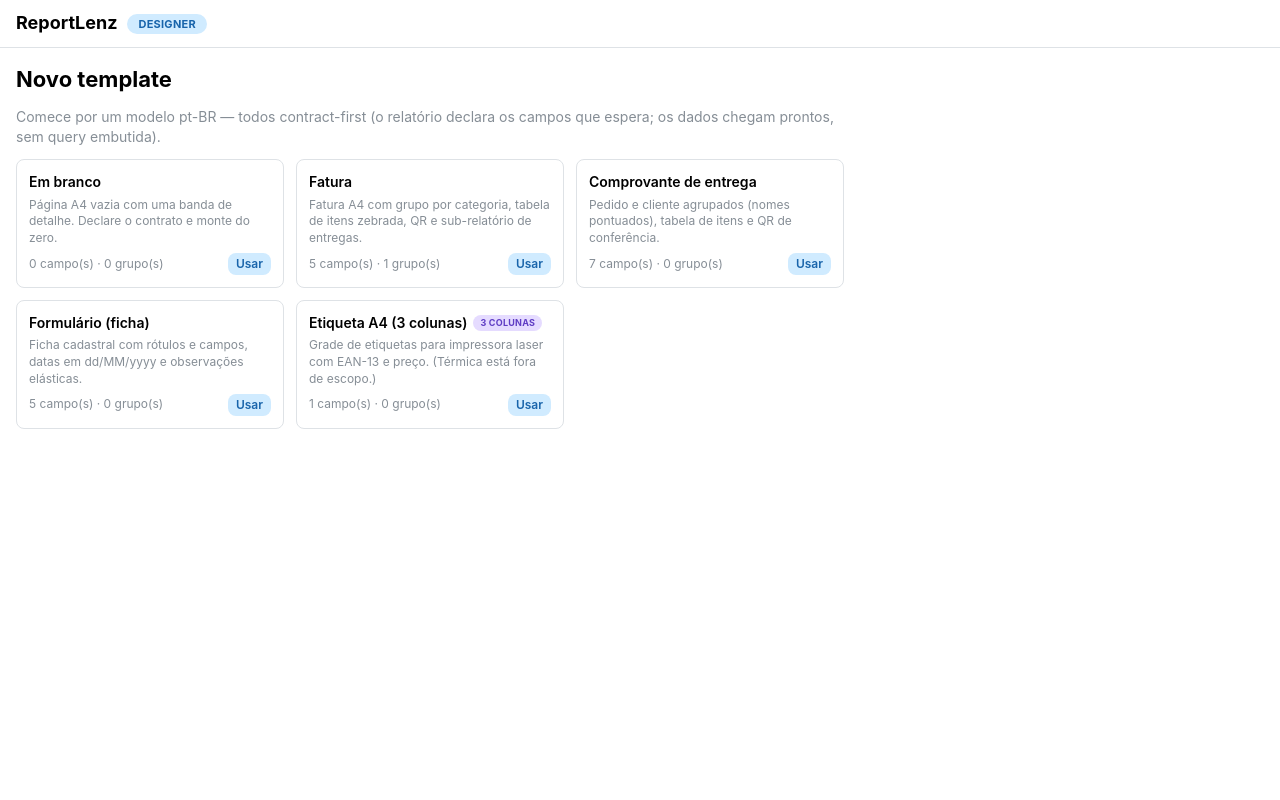
Test case: jrxml-designer-react · galeria (7.2) › template em branco abre válido (0 problemas) e editável
Click the button "Usar" below "Em branco" at x=249, y=264, box [228,253,271,275]
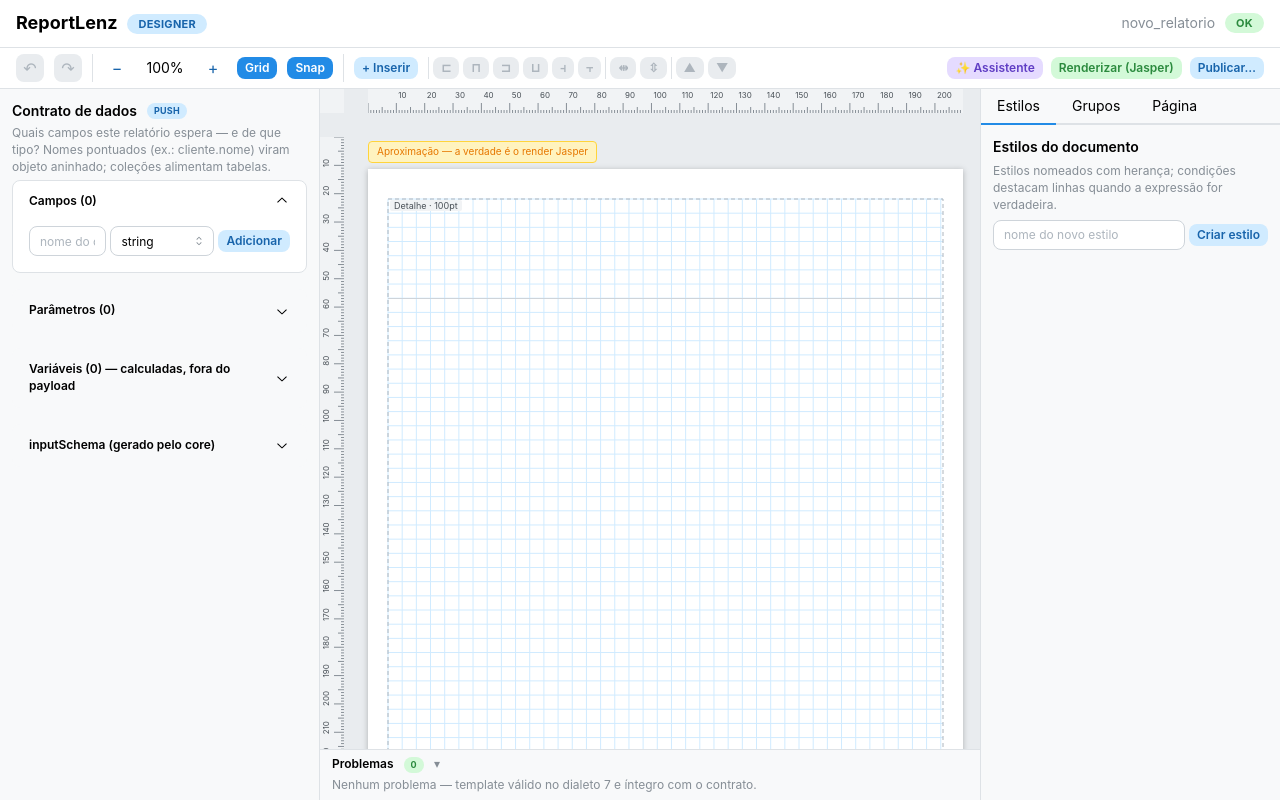
Expected: the element with test id "pagina-canvas" is shown, [368,168,963,749]
Expected: the element showing "Detalhe · 100pt" is shown, [388,198,943,298]
Expected: the text "ok" is shown, [1236,14,1253,32]
